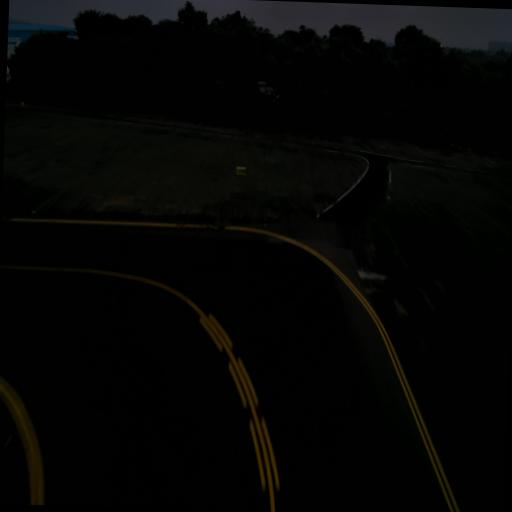on: (359, 264, 364, 275)
